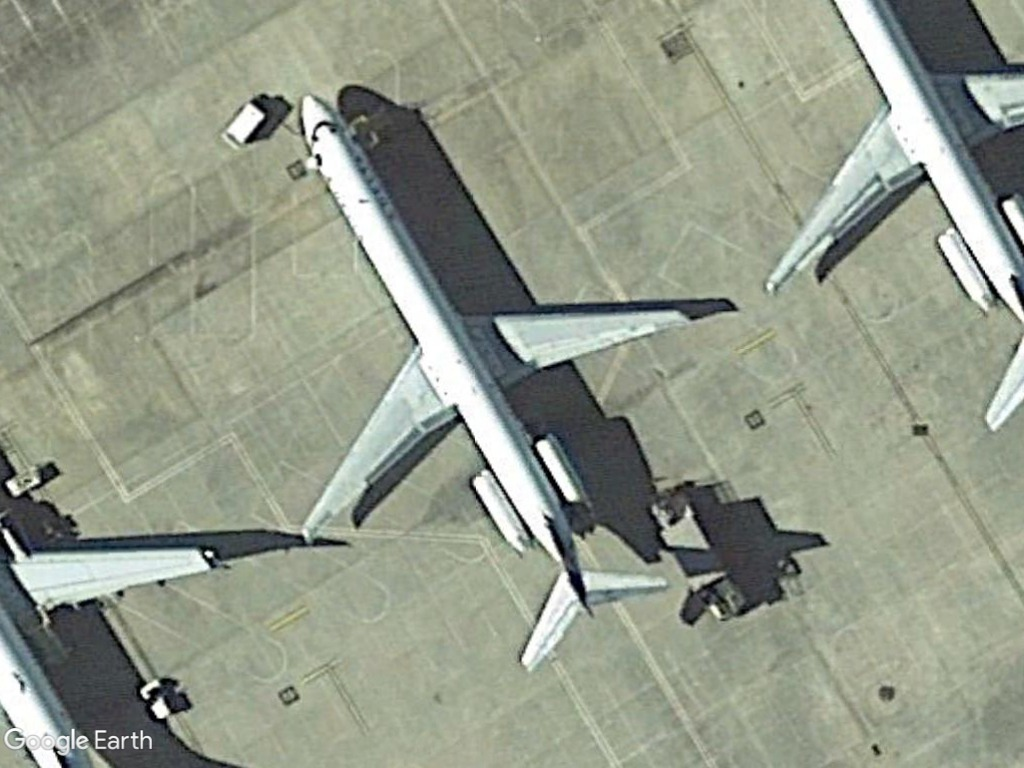chartered: (286, 90, 706, 669)
